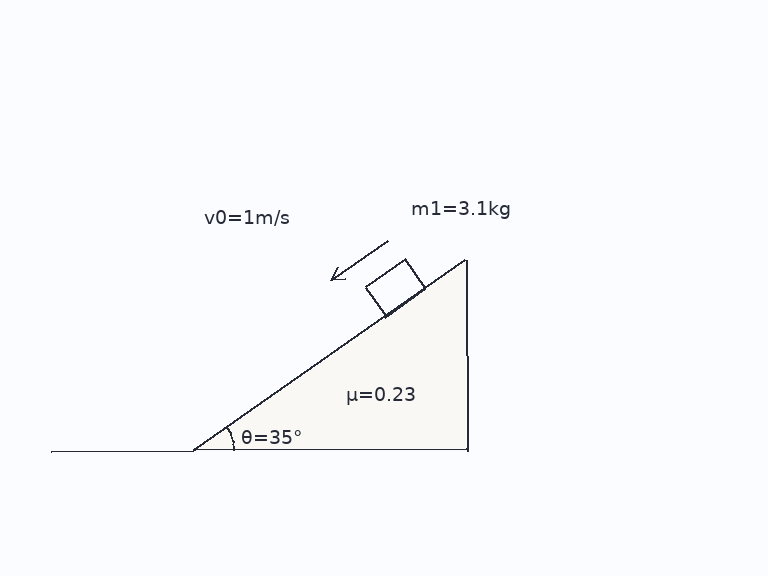block: (363, 257, 427, 318)
ramp: (192, 258, 468, 452)
